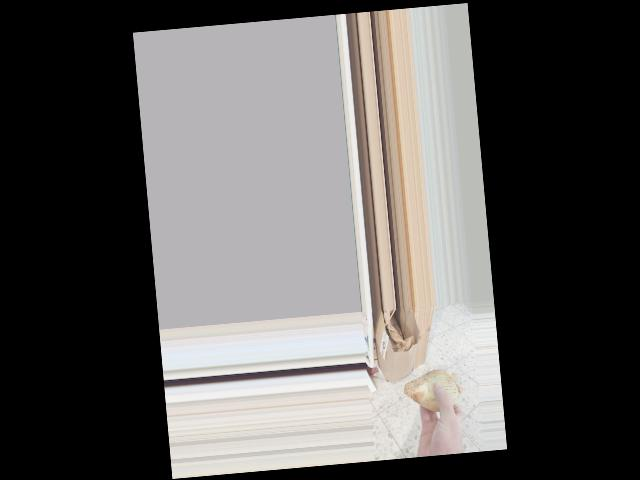onion: (401, 366, 464, 417)
